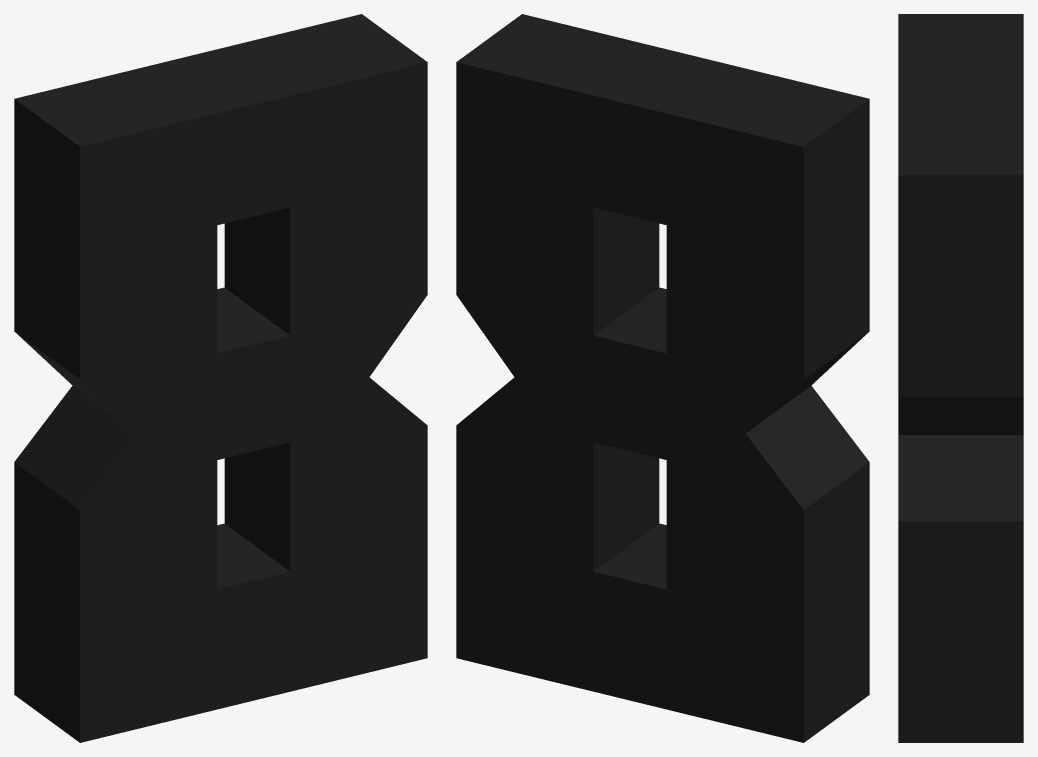
File: SM_UI_Number_08.fbx
The picture shows the model from 3 angles, left to right: view 1: azimuth 30°, elevation 25°; view 2: azimuth 150°, elevation 25°; view 3: azimuth 270°, elevation 25°; orthographic projection. The views are drawn at different scales.
Parts seen in each view (by area): view 1: SI_Number_8; view 2: SI_Number_8; view 3: SI_Number_8.
Part boxes in pixels (bbox=[...]): SI_Number_8: bbox=[14, 14, 427, 742]; SI_Number_8: bbox=[456, 14, 869, 742]; SI_Number_8: bbox=[898, 14, 1023, 742].
Size of the model in its own units: 0.583 by 0.9555 by 0.1912.
